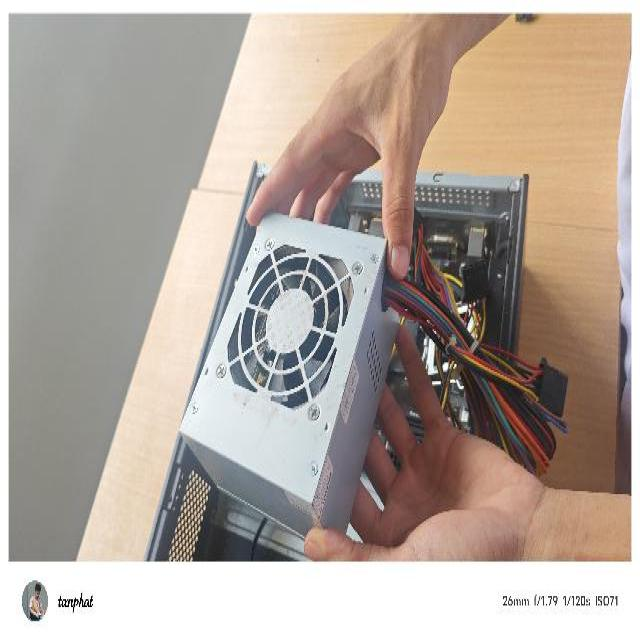PSU: (178, 208, 413, 547)
